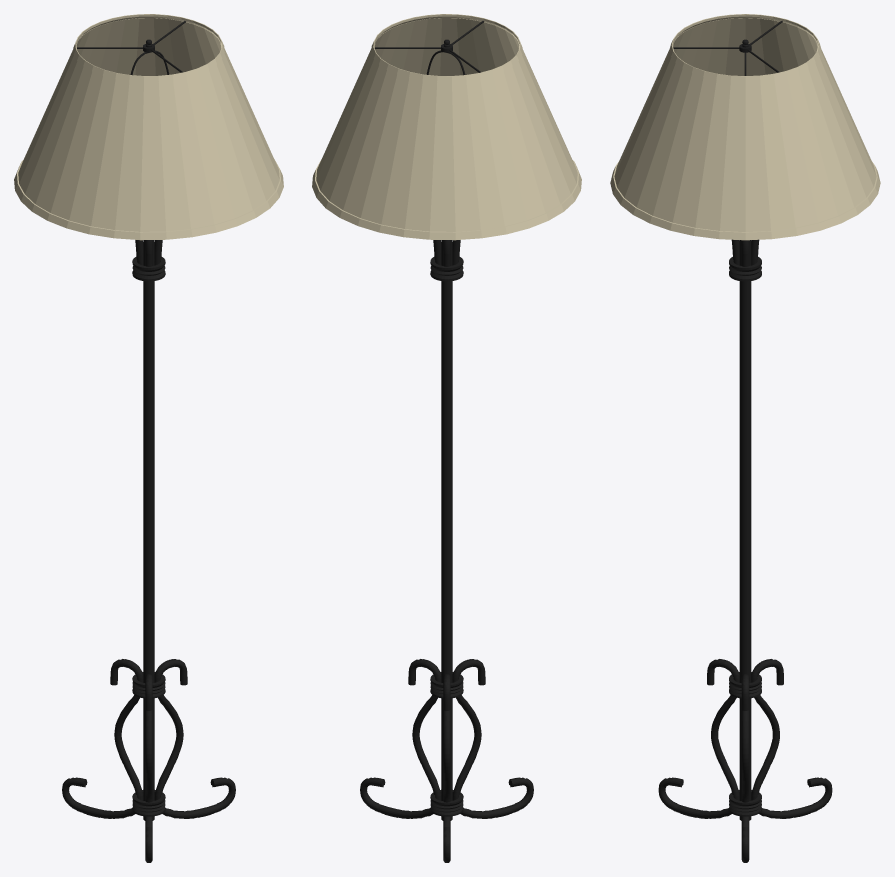
The model's file is floor_lamp.glb.
3 views of the same model, side by side, from view 1: azimuth 30°, elevation 25°; view 2: azimuth 150°, elevation 25°; view 3: azimuth 270°, elevation 25° (orthographic).
Visible parts, largest first — view 1: Cylinder.015, Cylinder, Cylinder.004, Cylinder.006, Cylinder.008, Cylinder.001, Cylinder.003; view 2: Cylinder.015, Cylinder, Cylinder.008, Cylinder.004, Cylinder.006, Cylinder.001, Cylinder.003; view 3: Cylinder.015, Cylinder, Cylinder.006, Cylinder.008, Cylinder.004, Cylinder.001, Cylinder.003.
Part boxes in pixels (x1,y1,x2,y2): Cylinder.015: (14,14,283,240); Cylinder: (143,240,154,820); Cylinder.004: (154,659,235,818); Cylinder.006: (62,659,143,818); Cylinder.008: (145,674,152,862); Cylinder.001: (132,790,165,816); Cylinder.003: (132,257,165,281); Cylinder.015: (312,14,581,240); Cylinder: (441,240,452,820); Cylinder.008: (452,659,533,818); Cylinder.004: (360,659,441,818); Cylinder.006: (443,674,450,862); Cylinder.001: (430,790,463,816); Cylinder.003: (430,257,463,281); Cylinder.015: (610,14,880,240); Cylinder: (739,240,751,820); Cylinder.006: (751,659,832,818); Cylinder.008: (658,659,739,818); Cylinder.004: (741,674,749,862); Cylinder.001: (729,790,761,816); Cylinder.003: (729,257,761,281).
Bounding box in the file's own units: 0.5713 × 1.84 × 0.5713.
